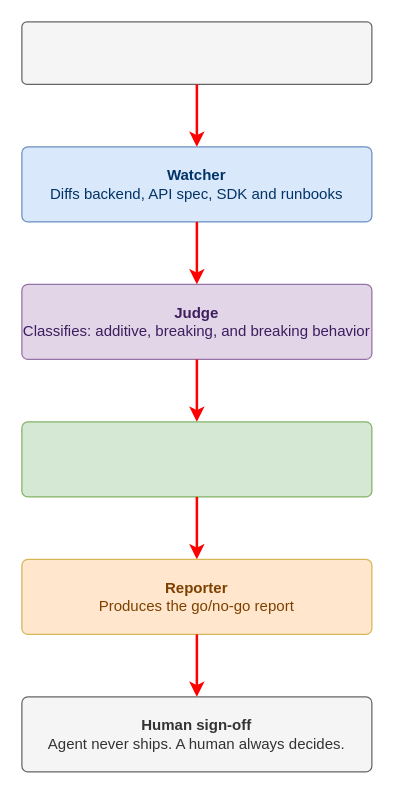
Some shapes in this 394 by 794 pixel diagram are drawn without their labels. Here are the shapes that lost their labels. From the top down, the centre of each, then its label:
point 196,52: Meridian repo — v1 vs v2
point 196,459: Cross-Checker Verifies SDK and runbook alignment
